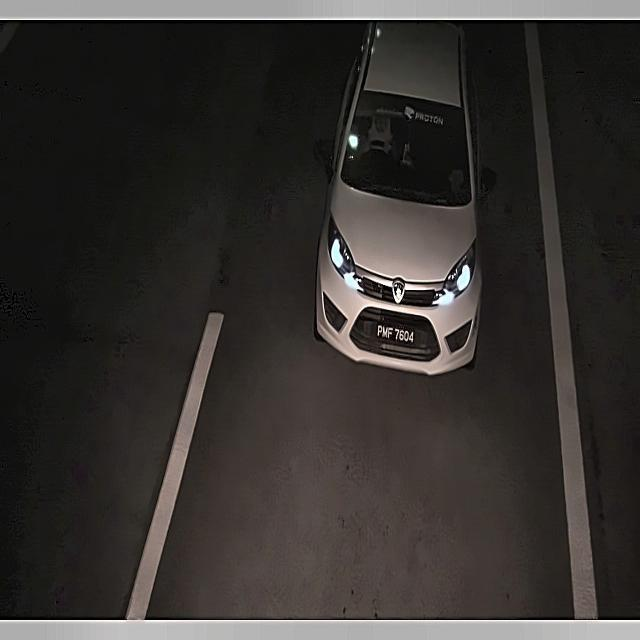car: (374, 313, 417, 354)
